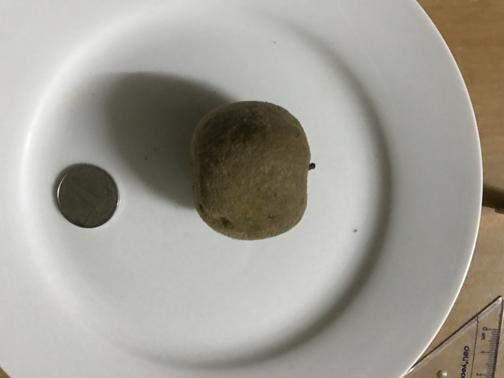coin: (52, 164, 119, 228)
qiwi: (192, 99, 308, 239)
